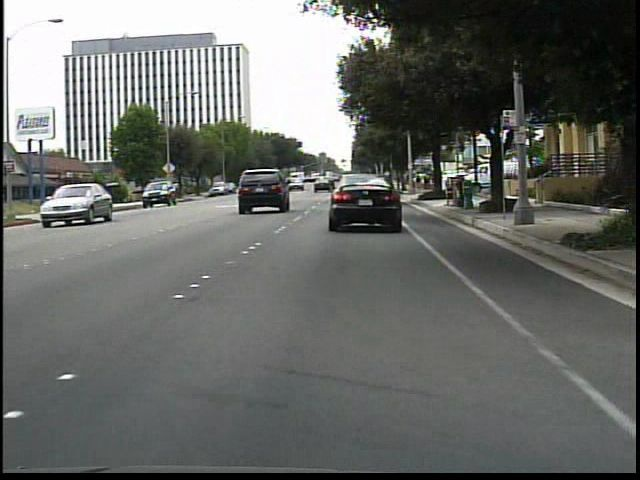person: (413, 172, 423, 191), (422, 174, 431, 194)
